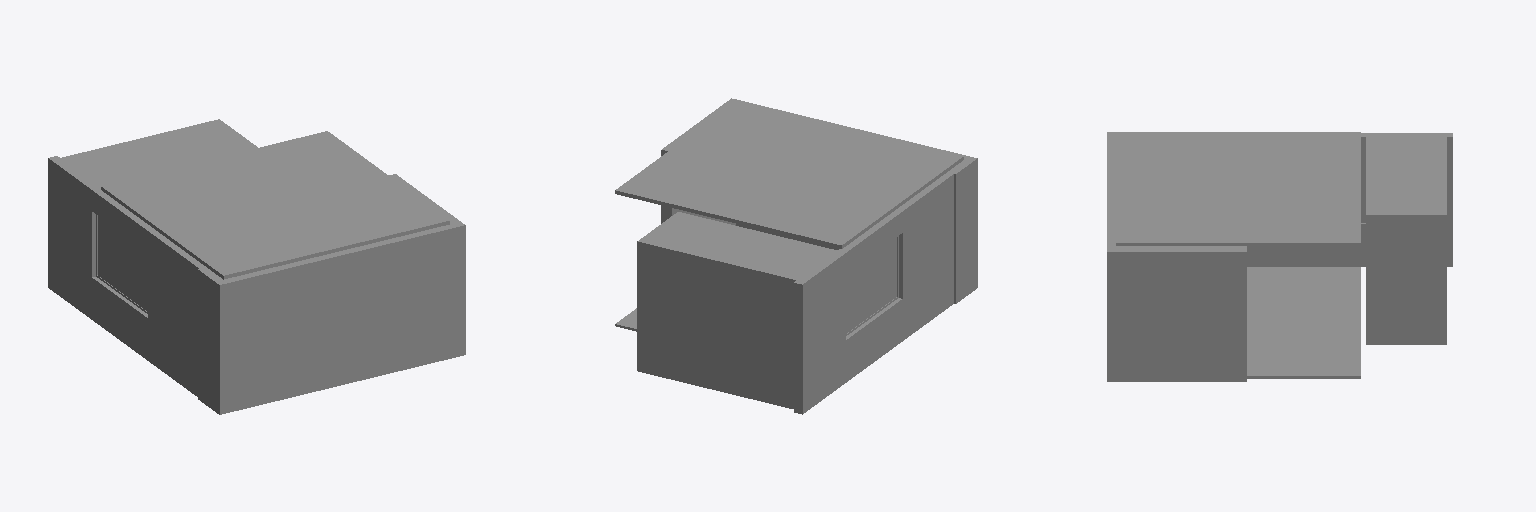
File: bedroom9_layout.obj
3 renders of one model, left to right at view 1: azimuth 30°, elevation 25°; view 2: azimuth 150°, elevation 25°; view 3: azimuth 270°, elevation 25°, orthographic.
Visible parts, largest first — view 1: wall.015, ceiling.005, pane.007; view 2: wall.015, ceiling.005, pane.007; view 3: wall.015, ceiling.005, floor.006.
Part boxes in pixels (x1,y1,x2,y2): wall.015: (48,119,465,414); ceiling.005: (101,131,449,279); pane.007: (96,215,147,313); wall.015: (637,98,977,414); ceiling.005: (615,101,963,248); pane.007: (846,236,898,335); wall.015: (1107,132,1452,381); ceiling.005: (1116,132,1360,245); floor.006: (1247,267,1360,378).
Bounding box in the file's own units: 5.45 × 2.88 × 6.65.